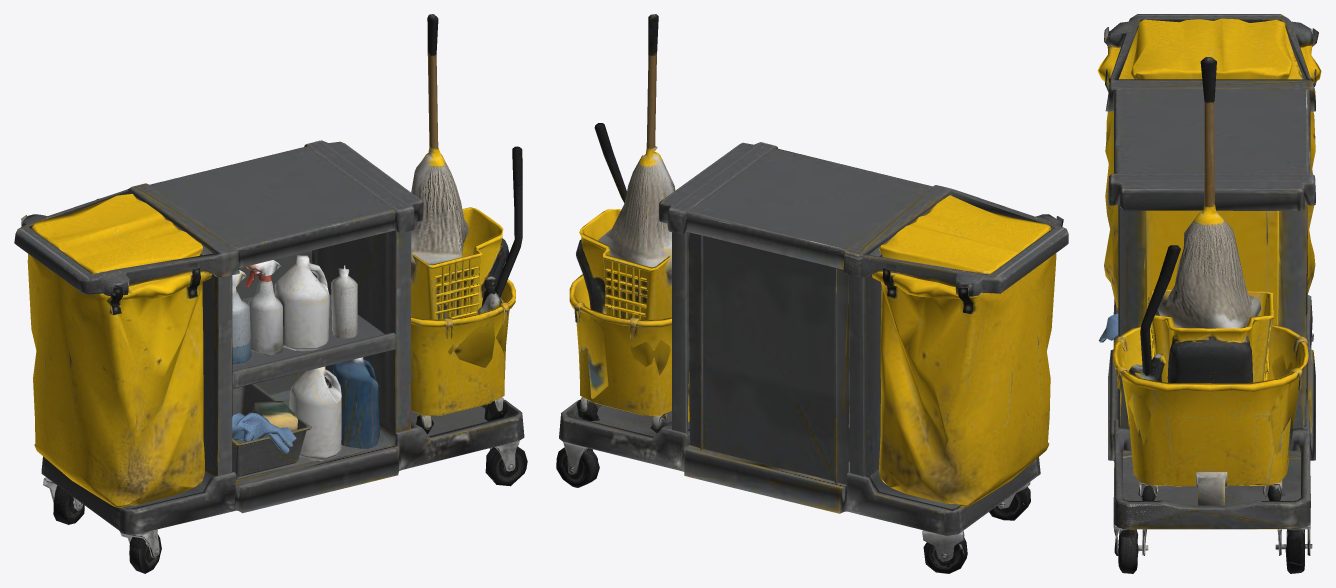
Rendered from janitor-cart-t25.glb.
The picture shows the model from 3 angles, left to right: view 1: azimuth 30°, elevation 25°; view 2: azimuth 150°, elevation 25°; view 3: azimuth 270°, elevation 25°; orthographic projection. The views are drawn at different scales.
Parts seen in each view (by area): view 1: janitor-cart-t25; view 2: janitor-cart-t25; view 3: janitor-cart-t25.
Boxes of the visible parts, box(x1,y1,x2,y2) form: janitor-cart-t25: box(14, 14, 527, 573); janitor-cart-t25: box(556, 14, 1068, 573); janitor-cart-t25: box(1097, 14, 1321, 573).
Size of the model in its own units: 1.42 by 1.34 by 0.55.
Materials: 1 (1 with a texture image).
